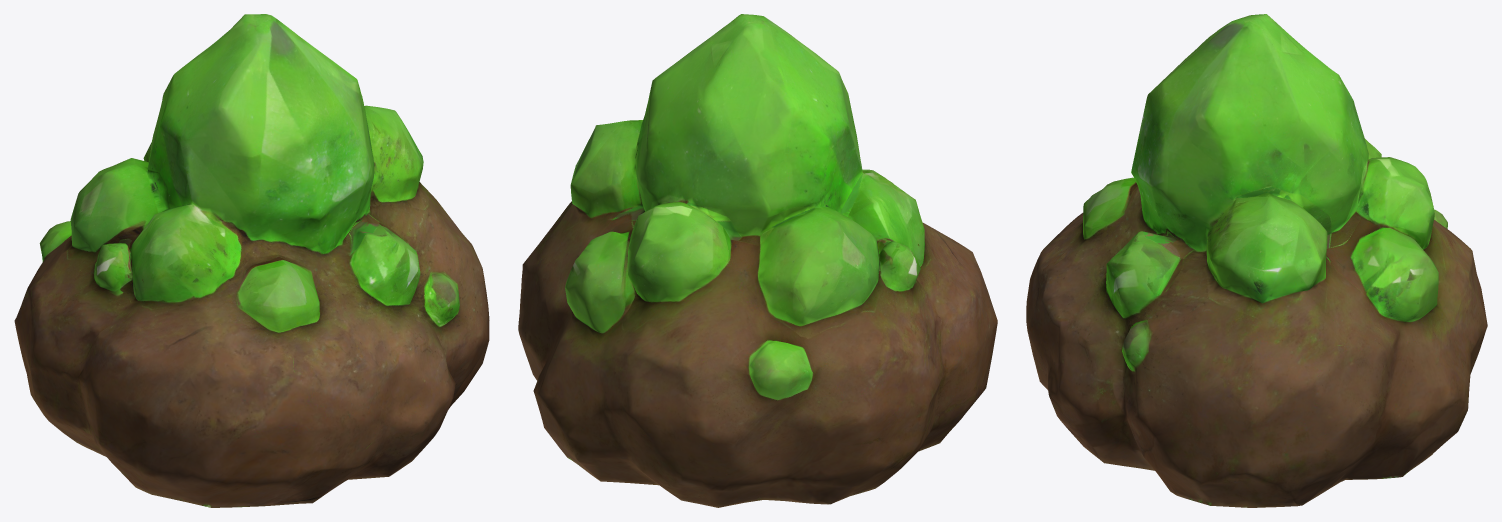
File: adamantite_ore.glb
3 renders of one model, left to right at view 1: azimuth 30°, elevation 25°; view 2: azimuth 150°, elevation 25°; view 3: azimuth 270°, elevation 25°, orthographic.
Bounding box in the file's own units: 1.99 × 1.87 × 1.91.
1 material, 1 textured.
